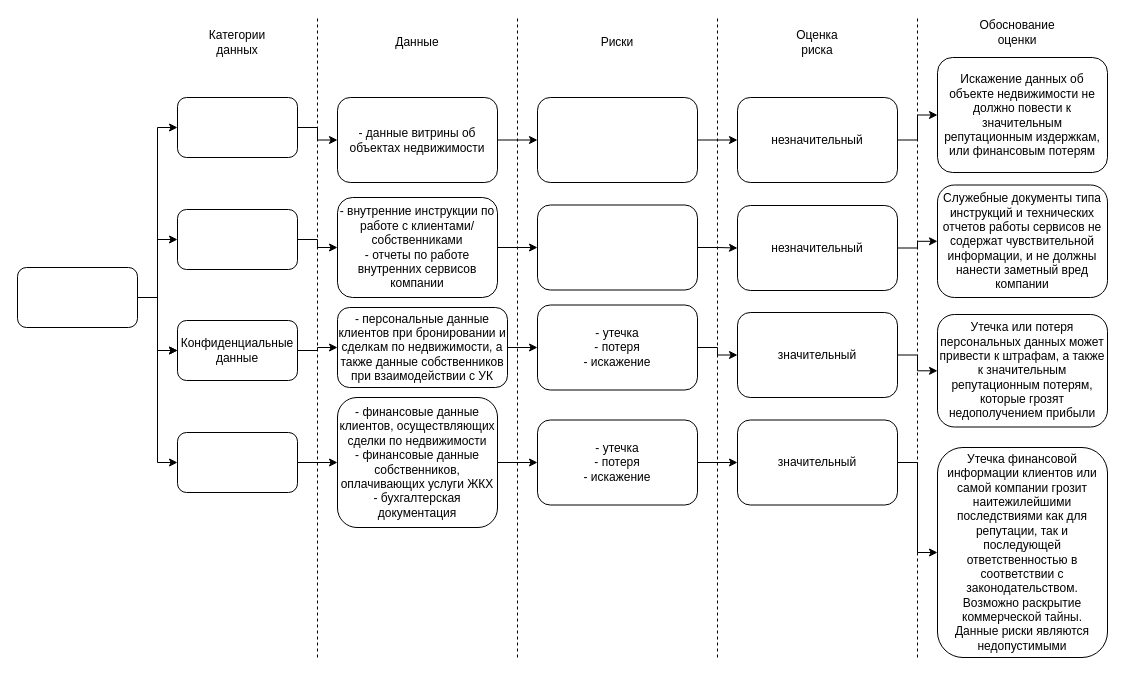
The diagram is 1125 pixels wide and 676 high, and some of its shapes have lost their labels. The centre of each missing label's shape, as x and y in pixels:
"- искажение данных" belongs at point 617,139.
"- утечка - потеря - искажение - обесценивание" belongs at point 617,247.
"Безопасность данных" belongs at point 77,297.
"Внутренние данные" belongs at point 237,239.
"Публичные данные" belongs at point 237,127.
"Секретные данные" belongs at point 237,462.
